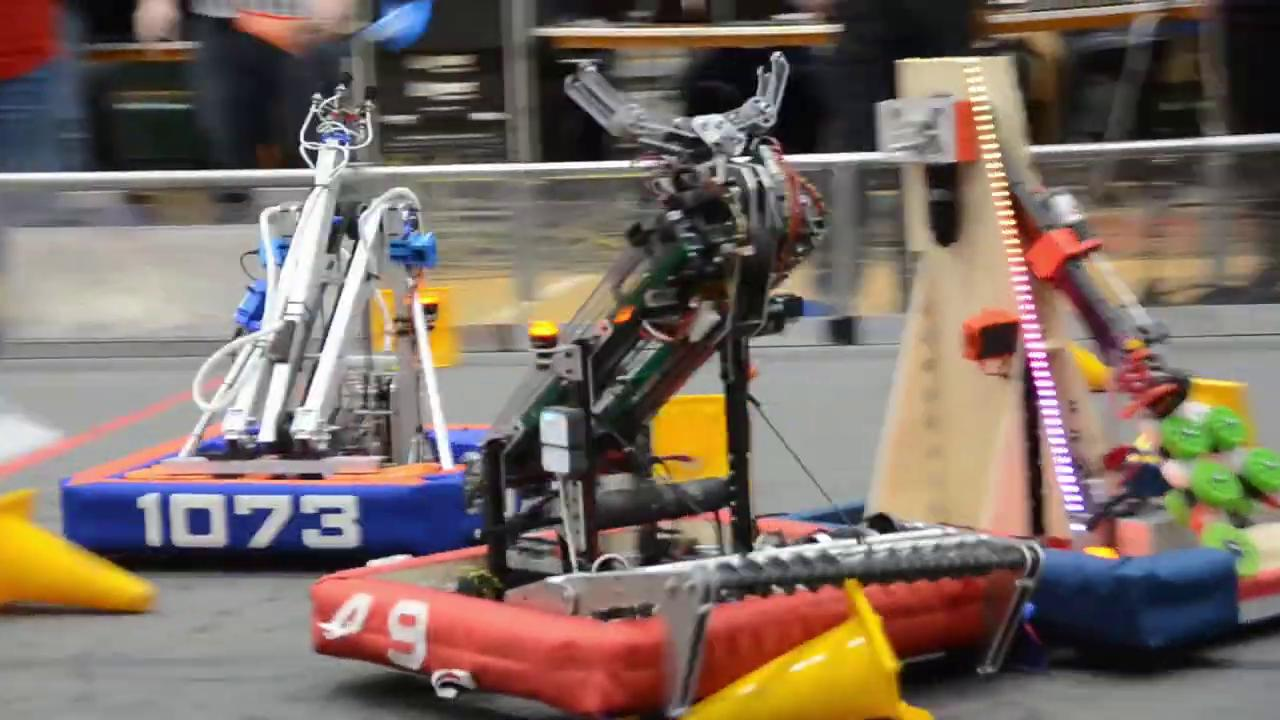robot: (312, 50, 1037, 719), (764, 57, 1280, 666), (61, 73, 524, 557)
